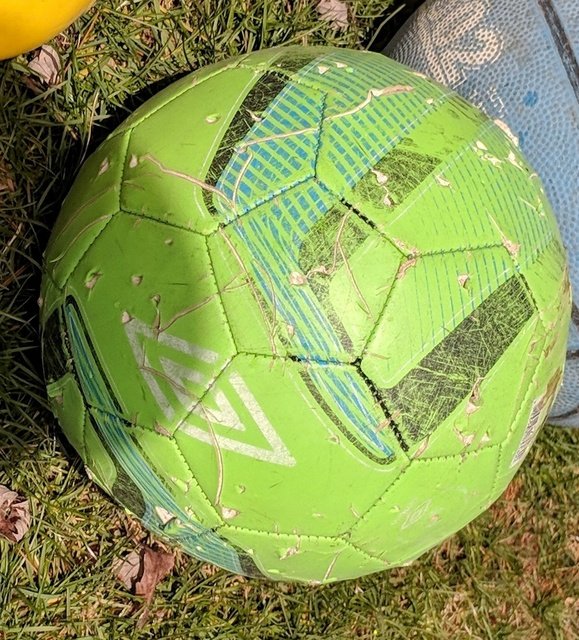ball: (34, 40, 573, 583)
